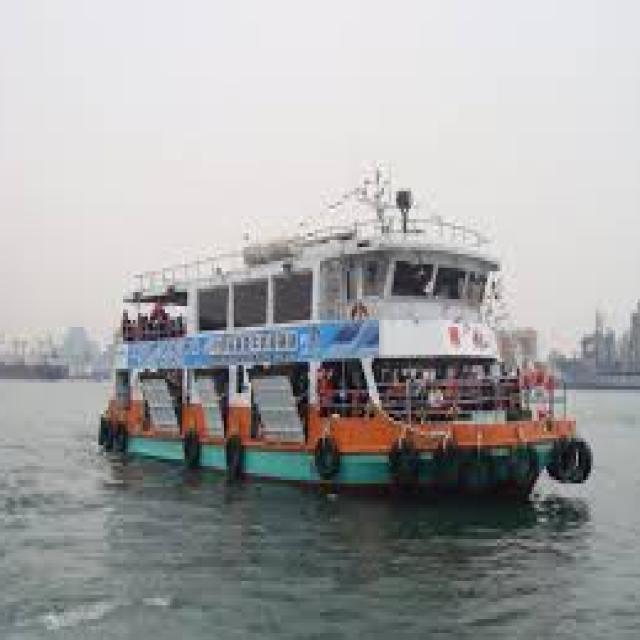passenger ship: (95, 168, 605, 508)
